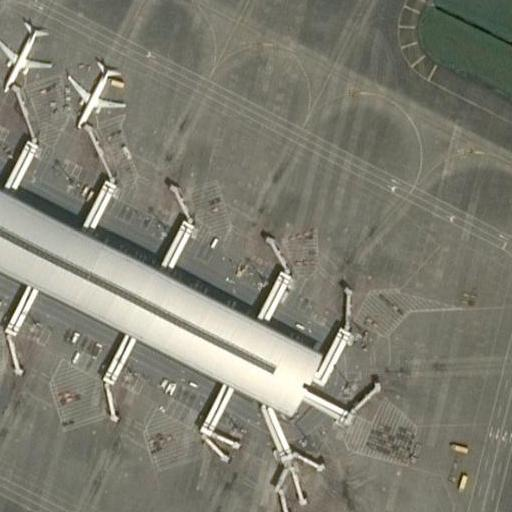Aircraft: (63, 56, 130, 129), (0, 16, 53, 94)
